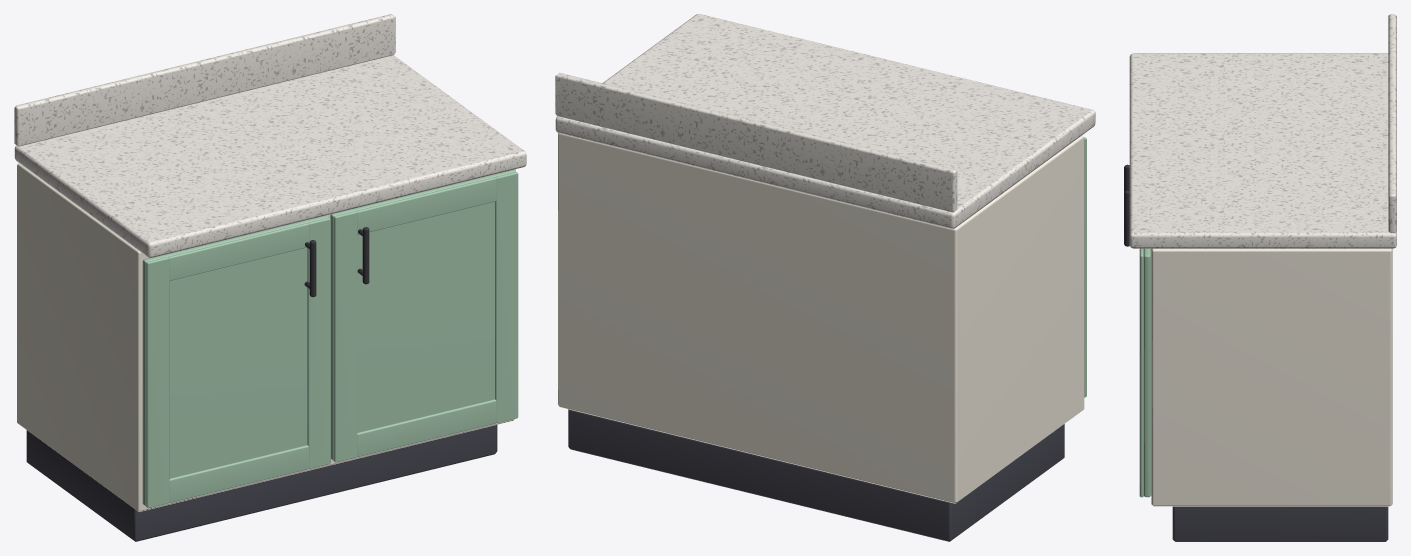
The model's file is prop_counter.glb.
3 views of the same model, side by side, from view 1: azimuth 30°, elevation 25°; view 2: azimuth 150°, elevation 25°; view 3: azimuth 270°, elevation 25° (orthographic). The views are drawn at different scales.
Parts seen in each view (by area): view 1: prop_counter; view 2: prop_counter; view 3: prop_counter.
Boxes of the visible parts, <box> form: prop_counter: <box>14,14,526,541</box>; prop_counter: <box>555,14,1095,541</box>; prop_counter: <box>1124,14,1396,541</box>.
Bounding box in the file's own units: 1.25 × 1.12 × 0.7912.
Materials: 5 (1 with a texture image).
